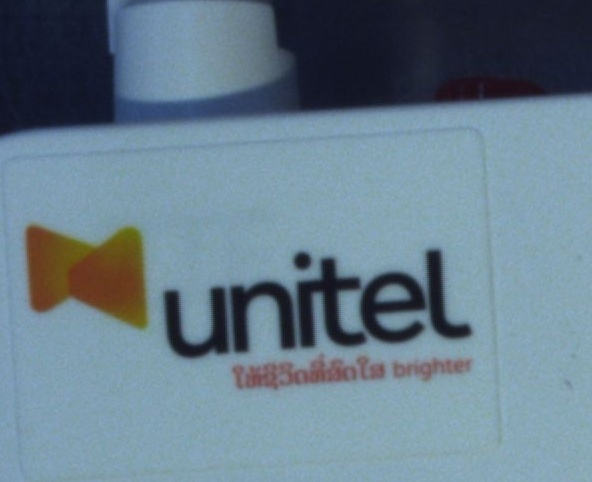BT_unitel: (23, 221, 478, 384)
